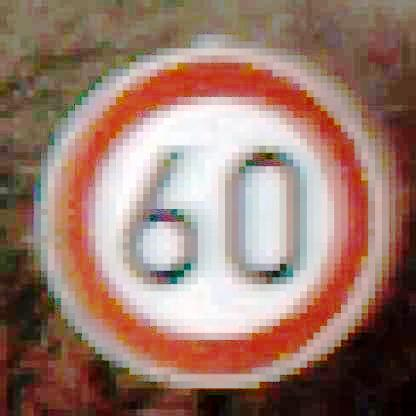Speed Limit -60-: (42, 44, 389, 389)
